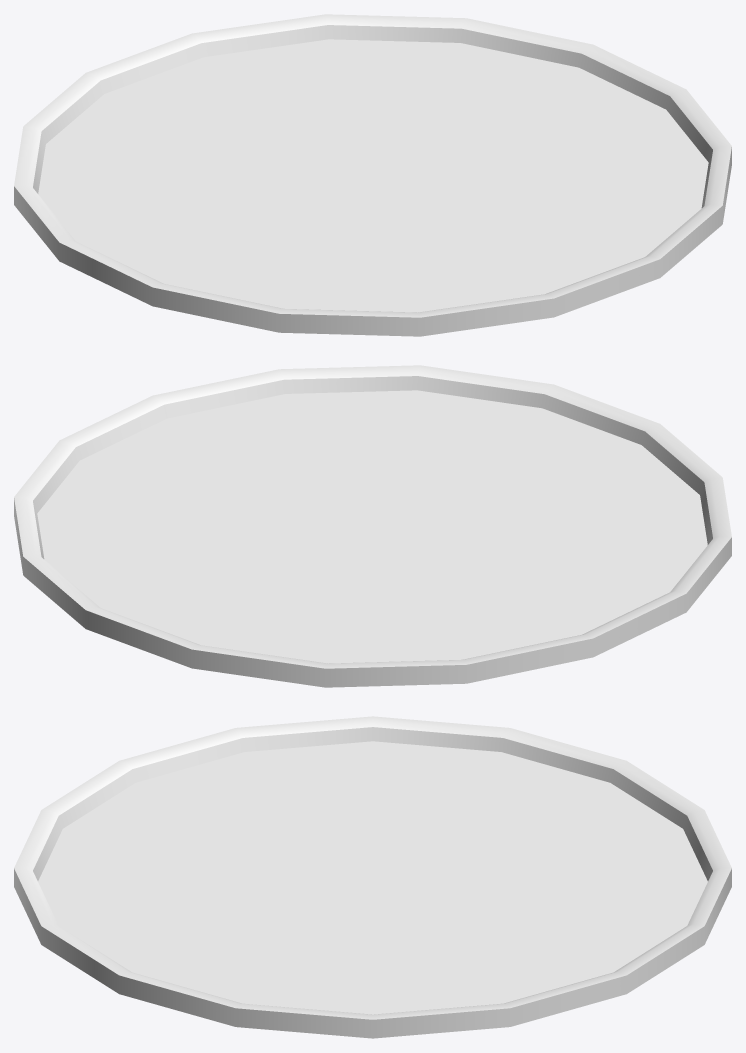
File: LP_wideplate.obj
3 views of the same model, one above another, from view 1: azimuth 30°, elevation 25°; view 2: azimuth 150°, elevation 25°; view 3: azimuth 270°, elevation 25° (orthographic).
Visible parts, largest first — view 1: LP_wideplate.001; view 2: LP_wideplate.001; view 3: LP_wideplate.001.
Part boxes in pixels (<box>): LP_wideplate.001: <box>14,14,731,336</box>; LP_wideplate.001: <box>14,365,731,687</box>; LP_wideplate.001: <box>14,716,731,1038</box>.
Size of the model in its own units: 0.2377 by 0.00686 by 0.2377.
